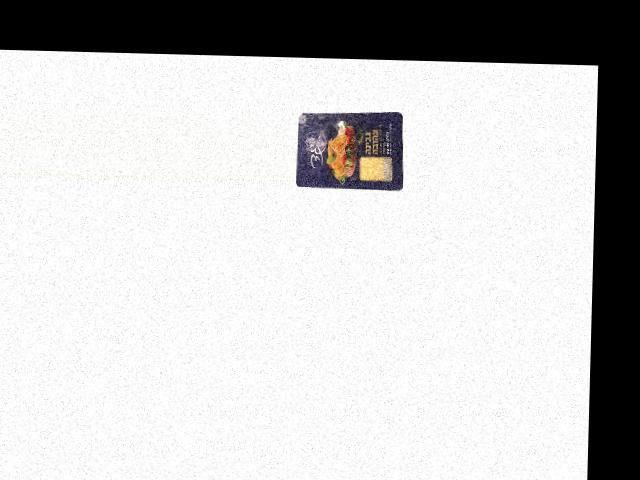cheese: (294, 107, 405, 190)
